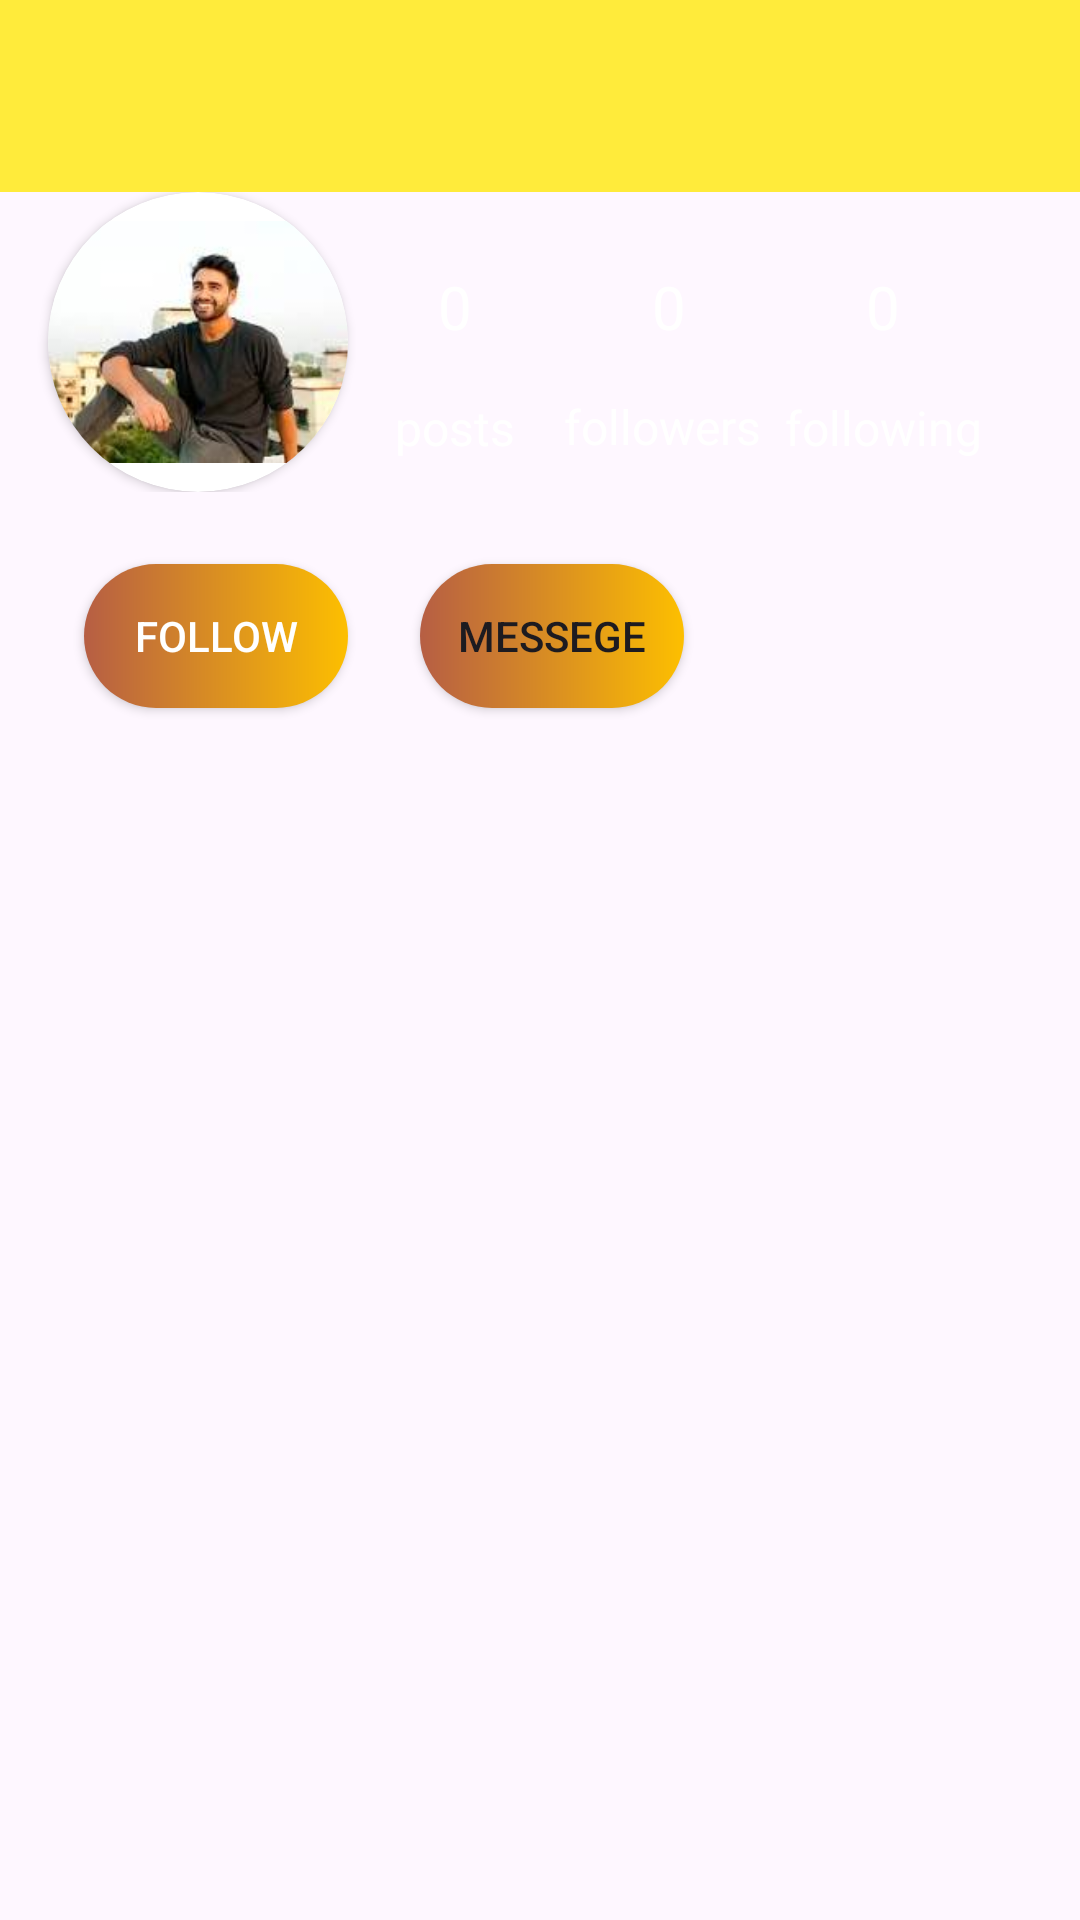

Where icons sit on this 1080px×1920px app screen, as (x1, y1, x2, y2):
manimage: (48, 253, 348, 492)
